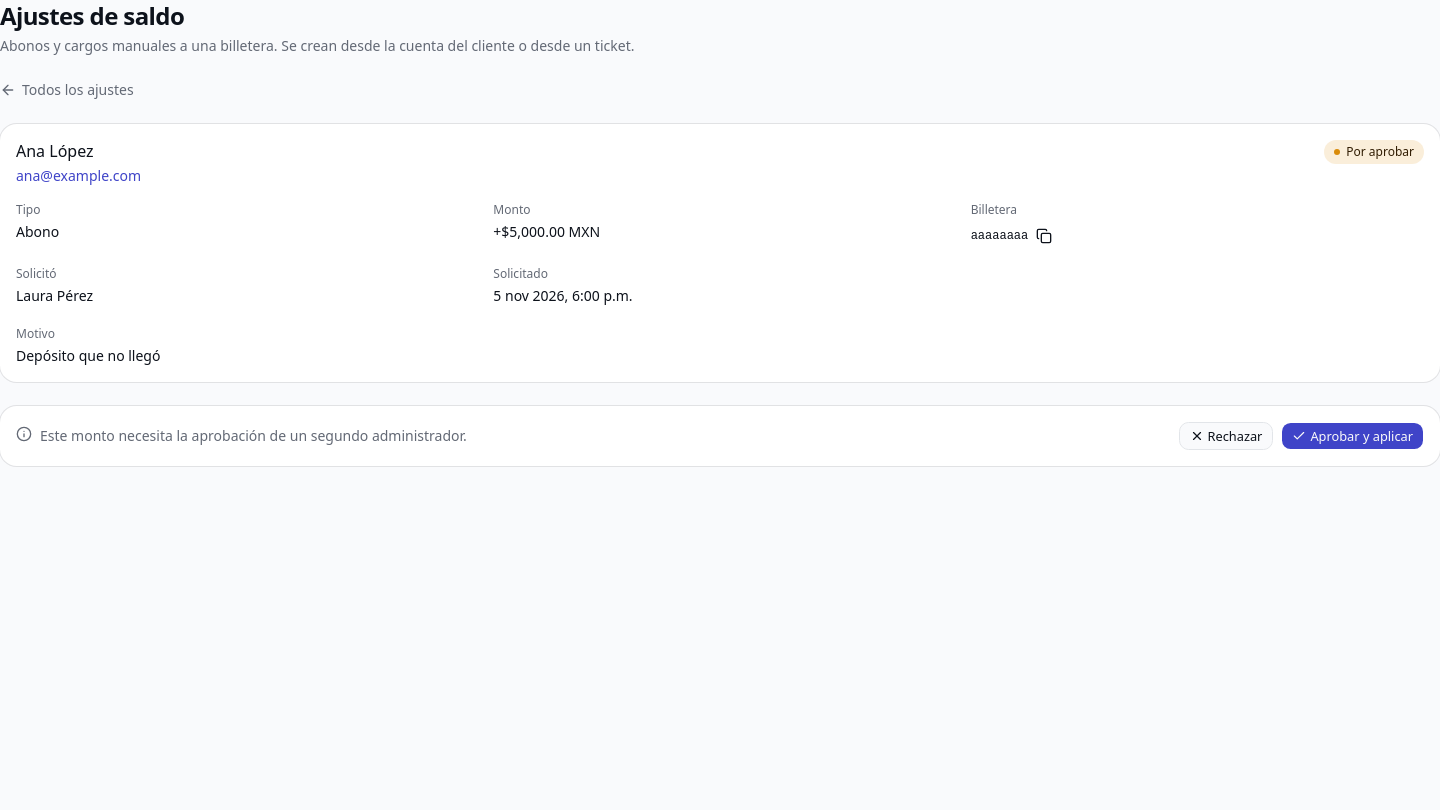
Test: AdminAdjustmentsPage › lets a second administrator apply it
Step 1. Click the button "Aprobar y aplicar" → {"x": 1353, "y": 436}, box [1281,422,1424,450]
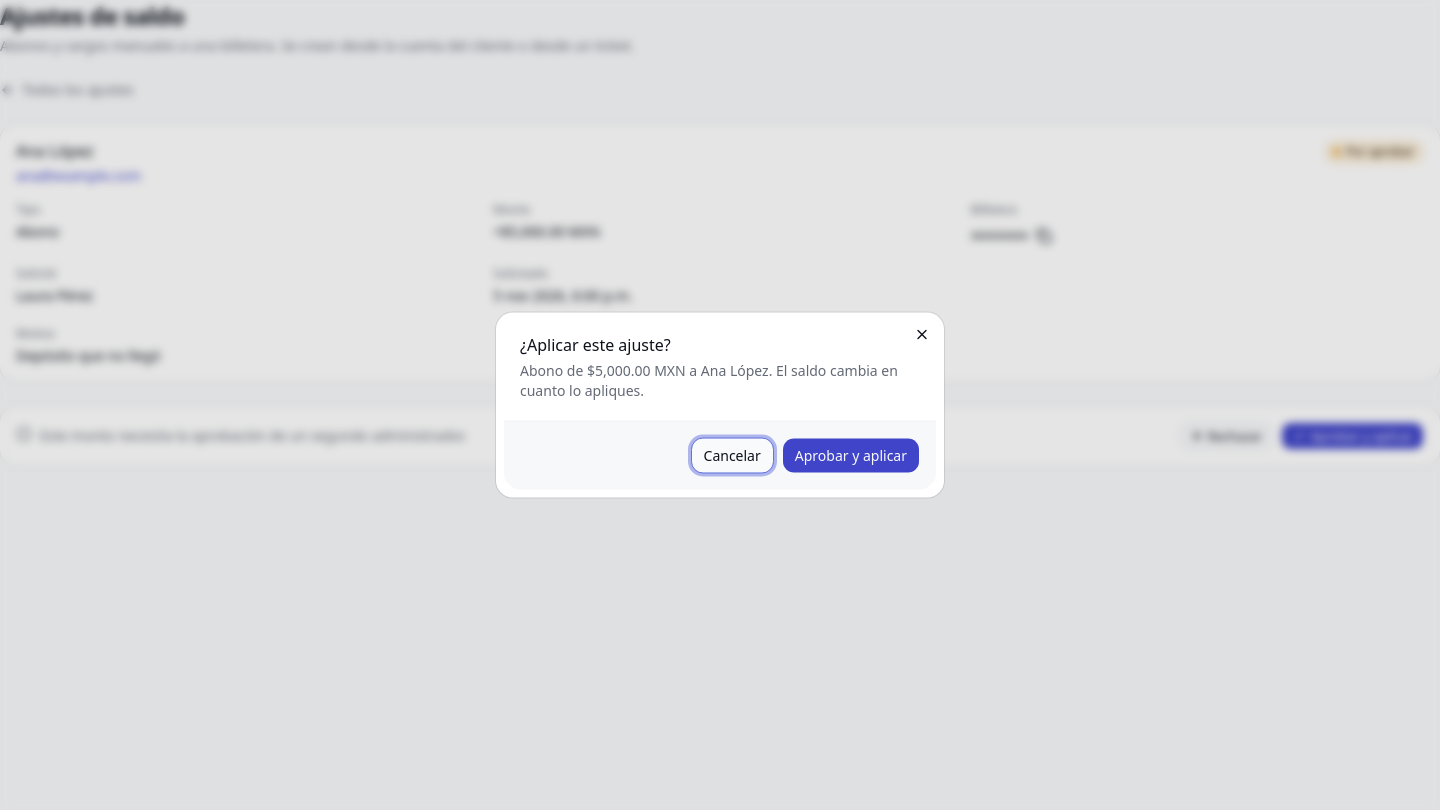
Now the text "Abono de $5,000.00 MXN a Ana López" is shown, box [520,360,898,400]
Step 2. Click the button "Aprobar y aplicar" → {"x": 851, "y": 456}, box [782,438,920,474]
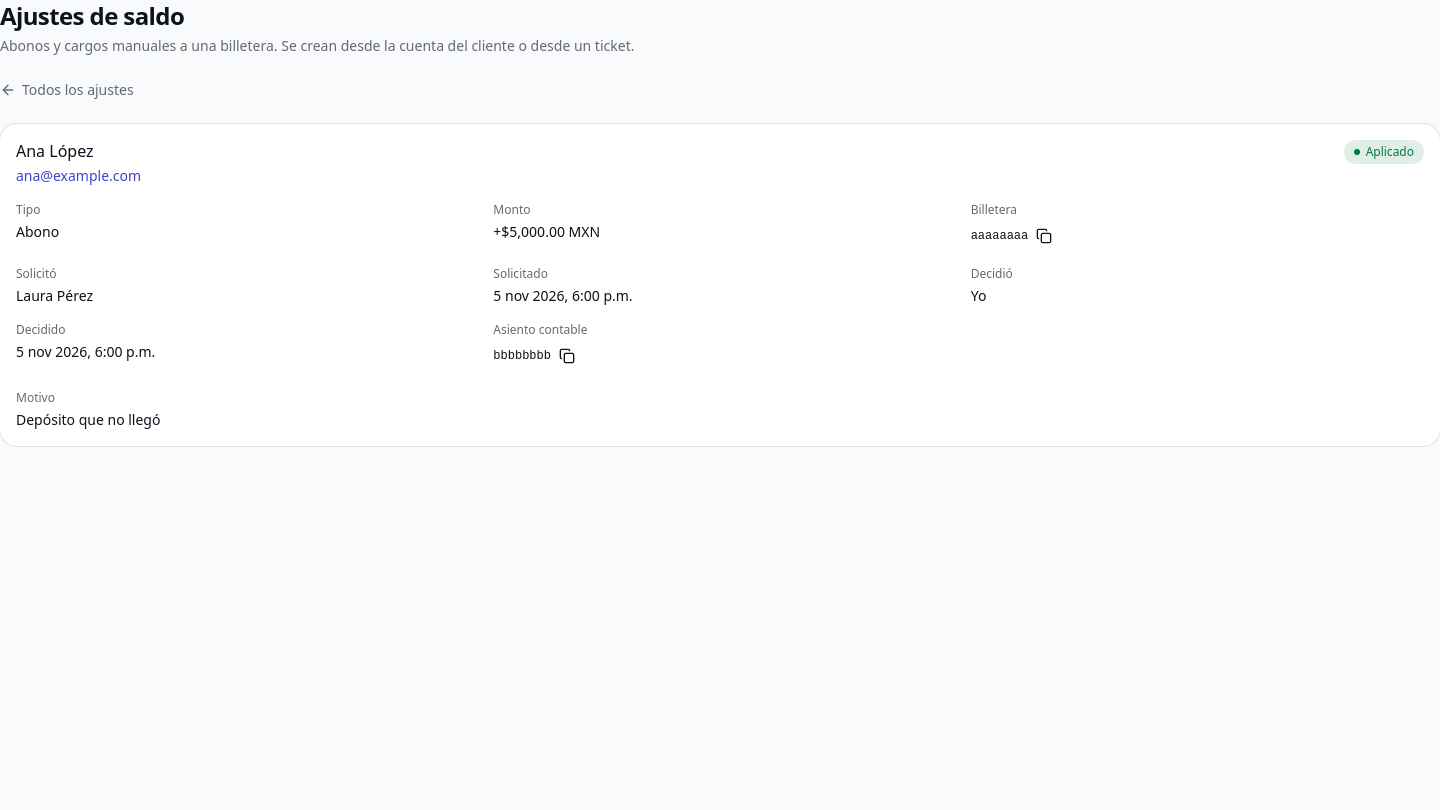
Now the text "Aplicado" is shown, box [1344,140,1424,164]
Now the button "Aprobar y aplicar" is gone
